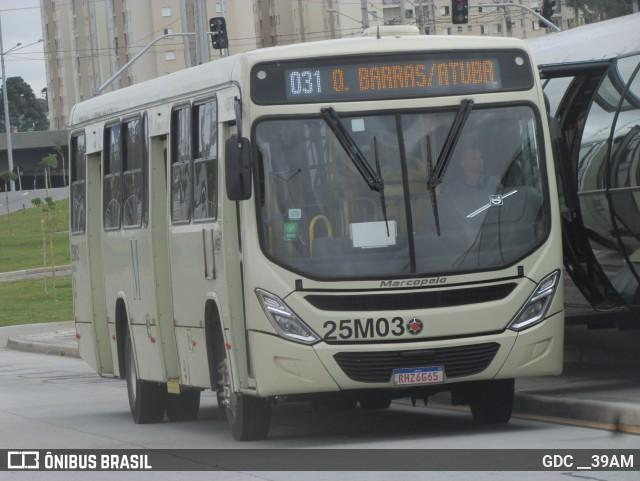BARRAS ATUBA: (351, 56, 499, 94)
